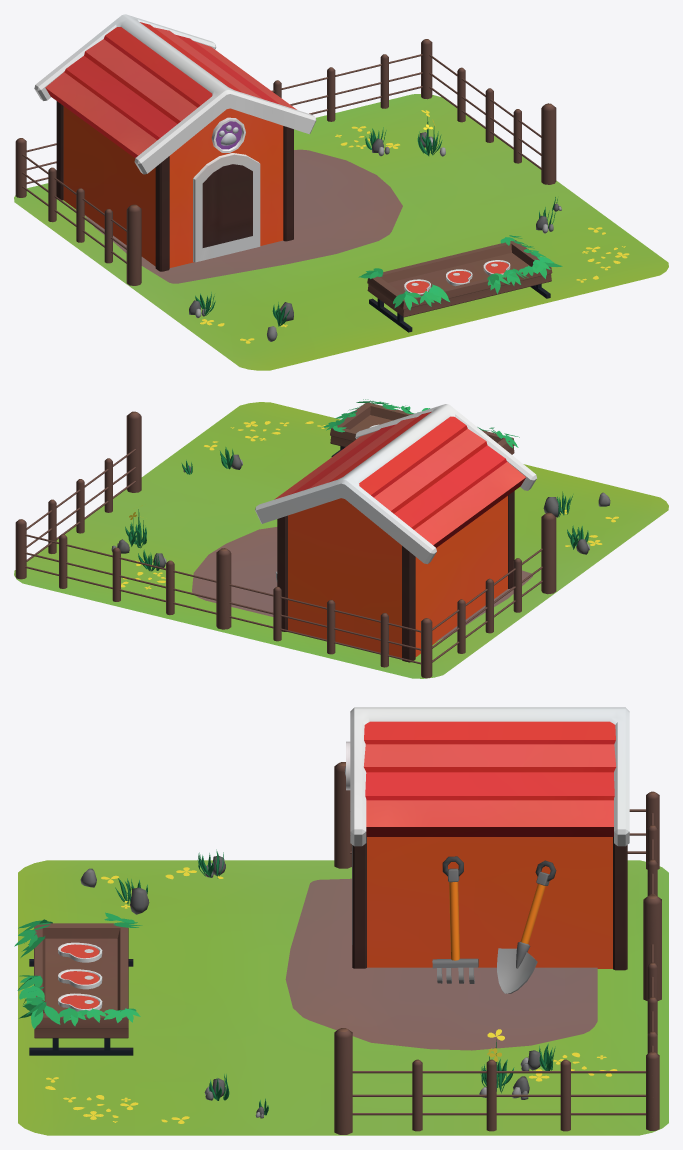
Rendered from Chuong_Gau.FBX.
3 renders of one model, top to bottom at view 1: azimuth 30°, elevation 25°; view 2: azimuth 150°, elevation 25°; view 3: azimuth 270°, elevation 25°, orthographic. The views are drawn at different scales.
Visible parts, largest first — view 1: Nen_co, nha, Nen_dat, Hang_rao, Mangan, hoa; view 2: nha, Nen_co, Hang_rao, Nen_dat, Mangan, hoa, co; view 3: Nen_co, nha, Nen_dat, Hang_rao, Mangan, xeng, cao, hoa, thit1, thit2, thit, co.
Boxes of the visible parts, x1,y1,x2,y2 form: Nen_co: (14,94,668,370); nha: (34,14,316,271); Nen_dat: (84,149,402,283); Hang_rao: (15,39,556,285); Mangan: (358,235,562,332); hoa: (200,126,629,343); nha: (255,404,536,662); Nen_co: (14,402,668,678); Hang_rao: (15,411,556,678); Nen_dat: (192,527,532,641); Mangan: (322,399,519,456); hoa: (121,421,618,589); co: (125,505,146,548); Nen_co: (18,860,668,1135); nha: (345,707,629,970); Nen_dat: (285,878,597,1050); Hang_rao: (334,762,661,1134); Mangan: (14,912,142,1055); xeng: (497,860,556,993); cao: (432,856,478,983); hoa: (45,867,617,1123); thit1: (58,969,102,989); thit2: (58,942,102,962); thit: (58,993,102,1011); co: (480,1029,514,1093).
Bounding box in the file's own units: 1300 × 489 × 1308.
